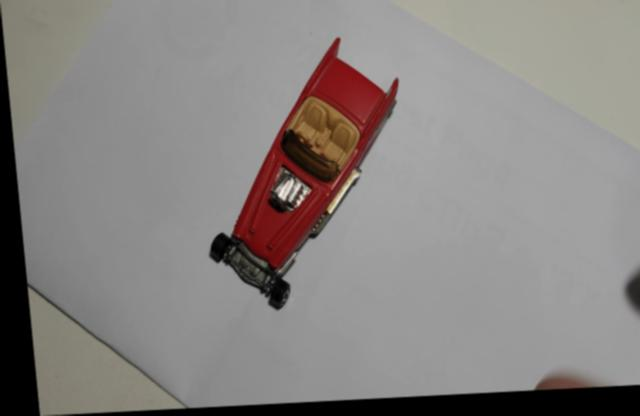03_V8: (204, 43, 399, 312)
